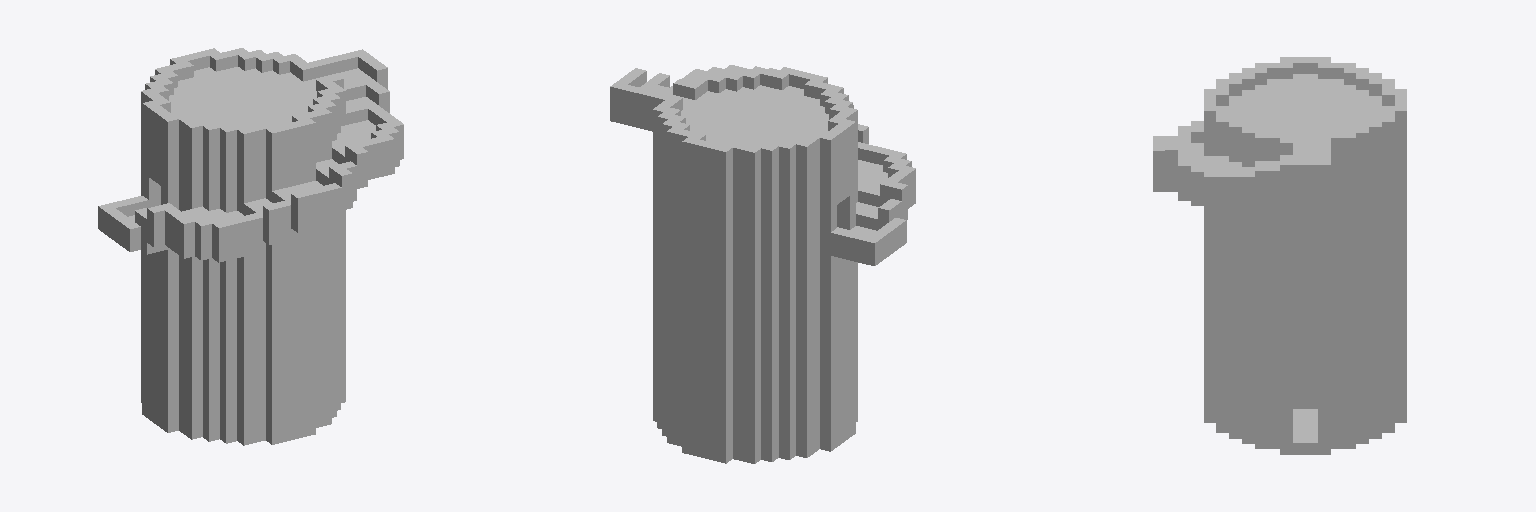
The model's file is AnotherTower.obj.
3 renders of one model, left to right at view 1: azimuth 30°, elevation 25°; view 2: azimuth 150°, elevation 25°; view 3: azimuth 270°, elevation 25°, orthographic.
Visible parts, largest first — view 1: AnotherTower_AnotherTower.005; view 2: AnotherTower_AnotherTower.005; view 3: AnotherTower_AnotherTower.005.
Part boxes in pixels (left/top/right/bottom): AnotherTower_AnotherTower.005: left=98, top=48, right=403, bottom=445; AnotherTower_AnotherTower.005: left=610, top=65, right=915, bottom=463; AnotherTower_AnotherTower.005: left=1153, top=57, right=1406, bottom=454.
Bounding box in the file's own units: 24 × 27 × 20.